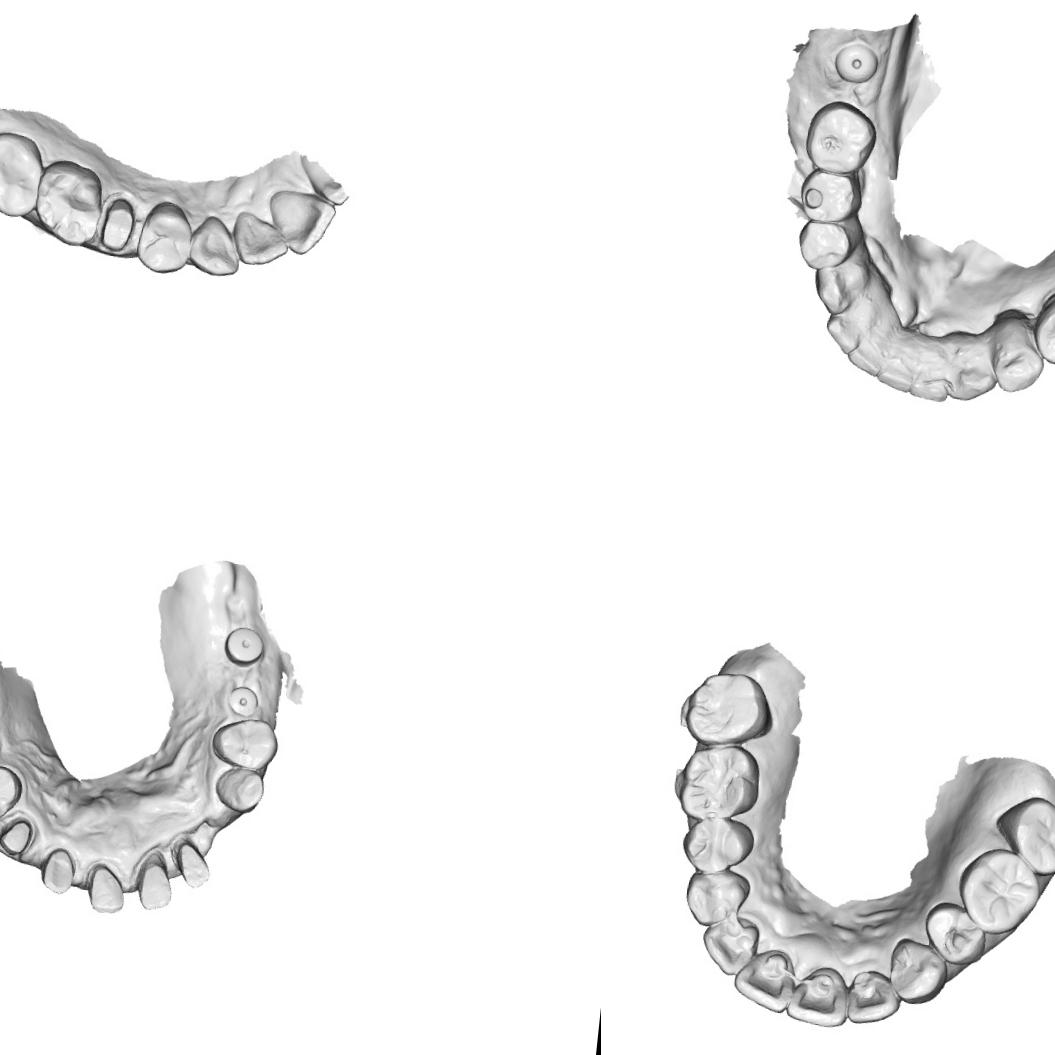canine: (884, 936, 955, 1010), (680, 865, 753, 935), (187, 212, 246, 279), (948, 342, 1002, 404), (811, 256, 866, 316), (210, 764, 268, 815)
crown: (96, 188, 140, 255), (84, 860, 130, 917), (132, 857, 176, 915), (170, 837, 215, 892), (36, 843, 78, 899), (0, 815, 35, 859)
implant: (222, 622, 268, 668), (835, 42, 881, 84), (225, 683, 262, 720)
incisor: (264, 188, 338, 258), (782, 960, 854, 1030), (730, 944, 796, 1016), (698, 913, 765, 980), (841, 967, 904, 1028), (230, 210, 293, 270), (910, 334, 959, 406), (877, 328, 928, 396), (846, 323, 895, 381), (822, 305, 868, 358)
molar: (952, 843, 1046, 940), (681, 664, 779, 753), (673, 738, 765, 825), (30, 154, 108, 250), (990, 791, 1055, 880), (805, 102, 879, 172), (0, 128, 50, 221)
premolar: (676, 812, 760, 880), (132, 197, 196, 278), (921, 900, 990, 968), (207, 714, 281, 774), (993, 322, 1050, 396), (796, 168, 863, 223), (796, 220, 856, 271), (0, 760, 26, 830), (1035, 290, 1055, 369)
